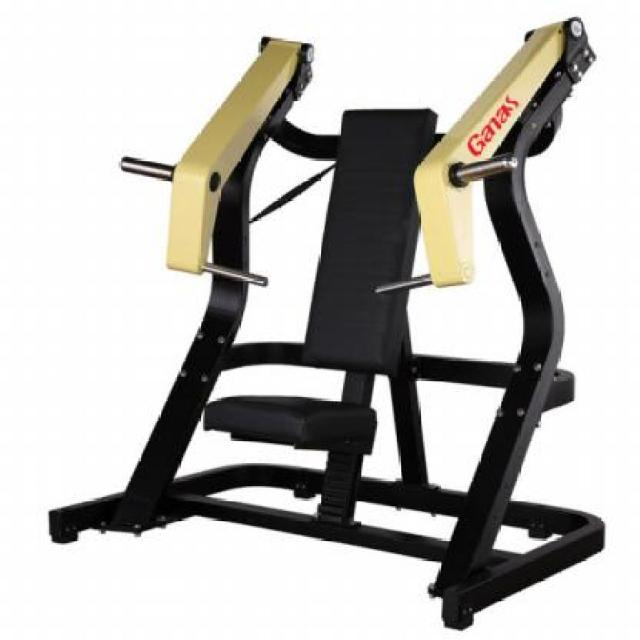Chest Press machine: (41, 14, 617, 631)
